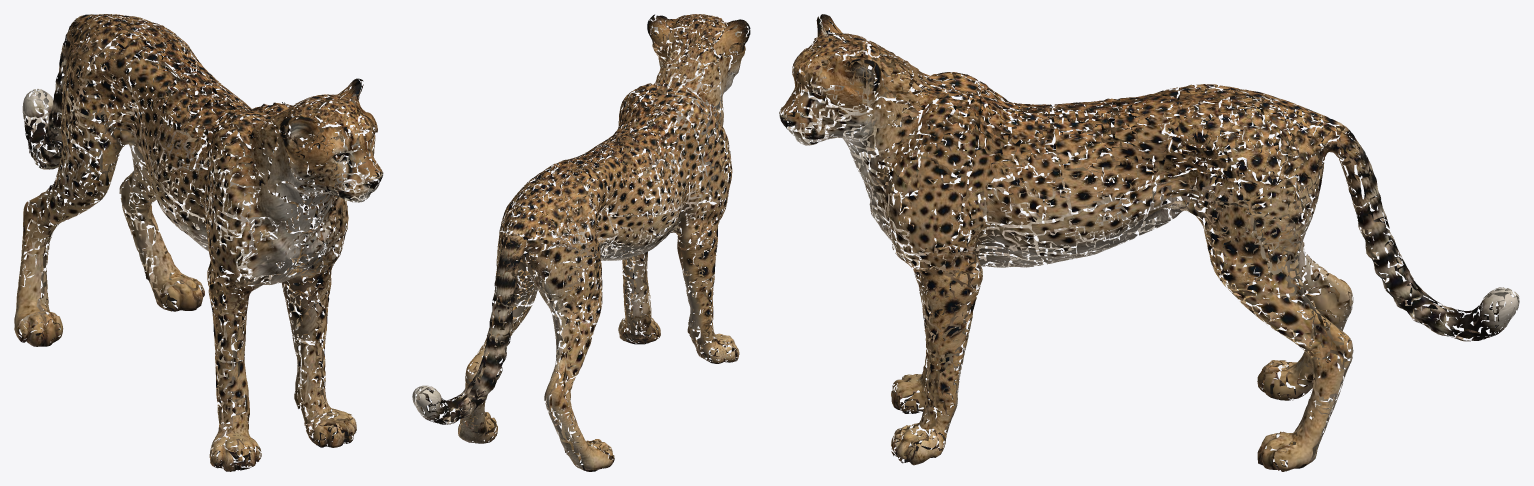
The model's file is cheetah.glb.
The picture shows the model from 3 angles, left to right: view 1: azimuth 30°, elevation 25°; view 2: azimuth 150°, elevation 25°; view 3: azimuth 270°, elevation 25°; orthographic projection. The views are drawn at different scales.
Visible parts, largest first — view 1: tripo_node_16e1a62b; view 2: tripo_node_16e1a62b; view 3: tripo_node_16e1a62b.
Part boxes in pixels (left/top/right/bottom): tripo_node_16e1a62b: left=14, top=14, right=383, bottom=471; tripo_node_16e1a62b: left=412, top=14, right=750, bottom=471; tripo_node_16e1a62b: left=779, top=14, right=1519, bottom=471.
Size of the model in its own units: 0.2991 by 0.5835 by 0.9793.
1 material, 1 textured.
